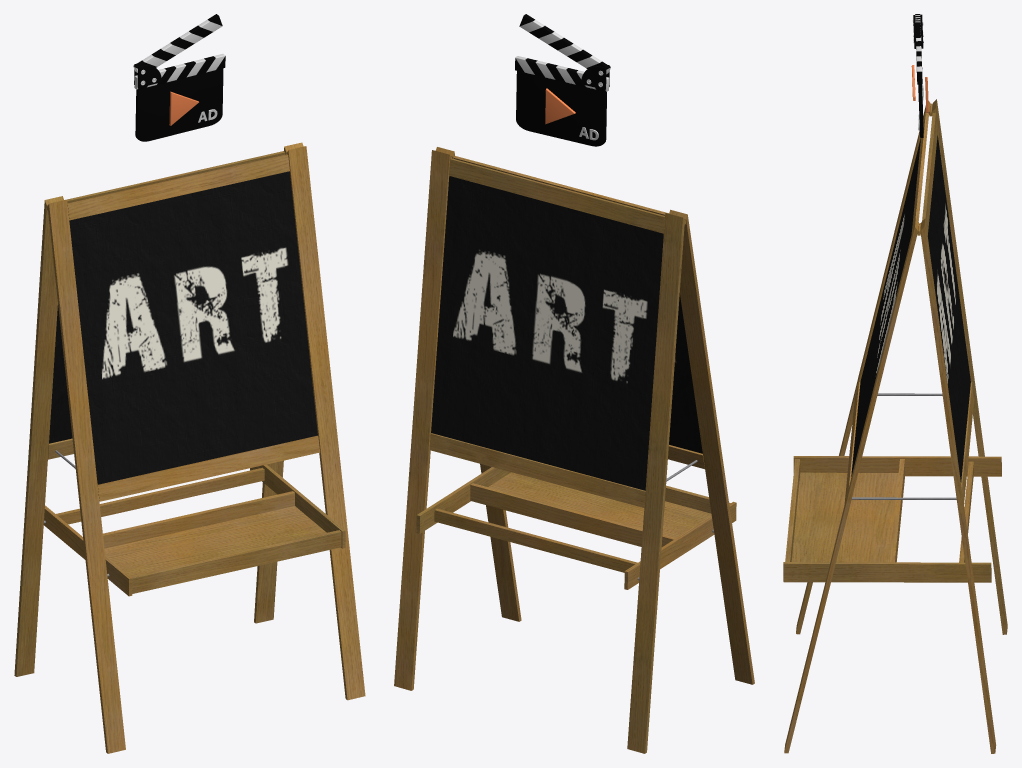
Rendered from art board.fbx.
The picture shows the model from 3 angles, left to right: view 1: azimuth 30°, elevation 25°; view 2: azimuth 150°, elevation 25°; view 3: azimuth 270°, elevation 25°; orthographic projection. The views are drawn at different scales.
Parts seen in each view (by area): view 1: Object_7; view 2: Object_7; view 3: Object_7.
Part boxes in pixels (left/top/right/bottom): Object_7: left=14, top=14, right=365, bottom=753; Object_7: left=394, top=14, right=754, bottom=753; Object_7: left=783, top=14, right=1007, bottom=753.
Size of the model in its own units: 9341 by 22650 by 6705.
